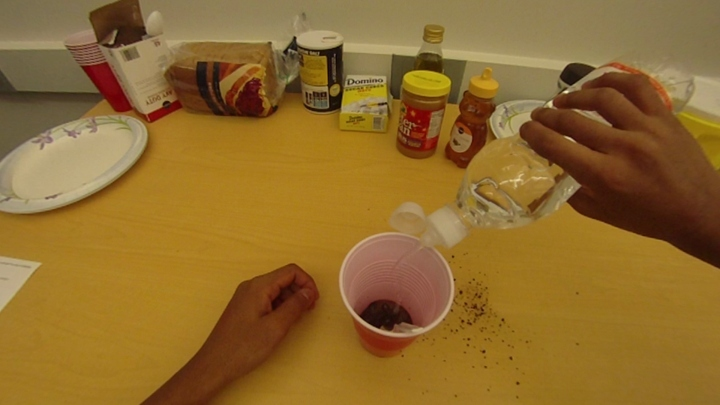hand: (520, 70, 707, 250), (211, 261, 322, 375)
